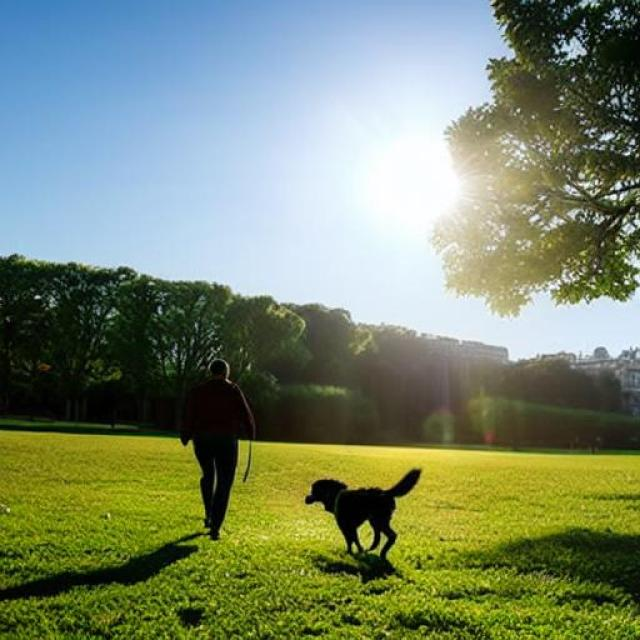Unleashed_Dog: (198, 447, 423, 556)
